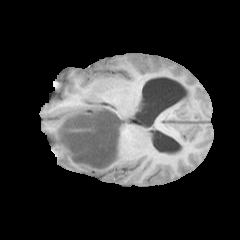glioma: (52, 102, 127, 173)
